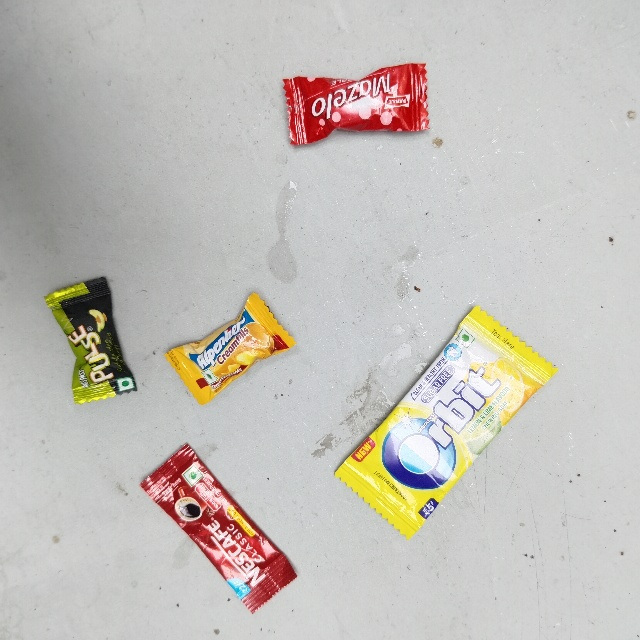Alpenlibe Creamfills: (160, 357, 284, 422)
Mazelo: (279, 78, 430, 149)
Nescafe Coffee: (138, 485, 206, 640)
Orbit: (476, 302, 582, 522)
Pulse: (36, 296, 111, 415)
